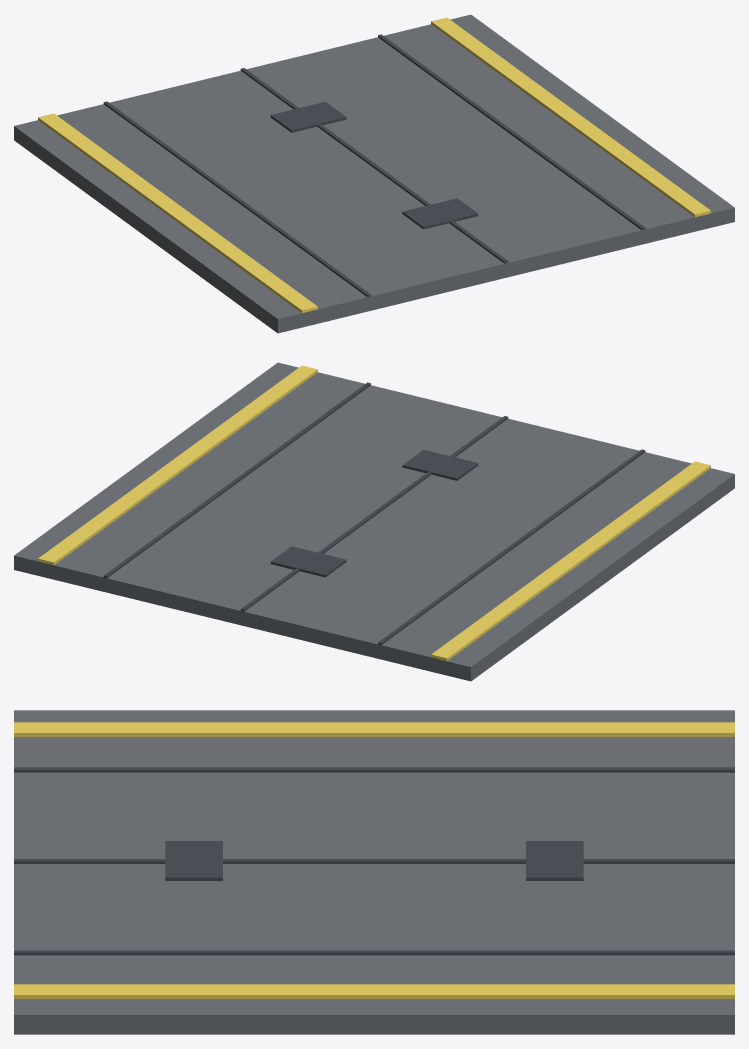
File: road.glb
3 views of the same model, one above another, from view 1: azimuth 30°, elevation 25°; view 2: azimuth 150°, elevation 25°; view 3: azimuth 270°, elevation 25° (orthographic). The views are drawn at different scales.
Visible parts, largest first — view 1: road, detail; view 2: road, detail; view 3: road, detail.
Boxes of the visible parts, left/top/right/bottom form: road: left=14, top=14, right=734, bottom=333; detail: left=103, top=34, right=645, bottom=297; road: left=14, top=362, right=734, bottom=681; detail: left=103, top=382, right=645, bottom=645; road: left=14, top=710, right=734, bottom=1034; detail: left=14, top=767, right=734, bottom=955.
Size of the model in its own units: 10 by 0.36 by 10.
